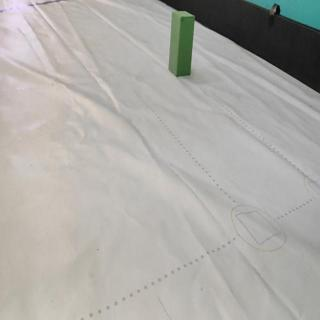greenbox: (167, 9, 196, 78)
